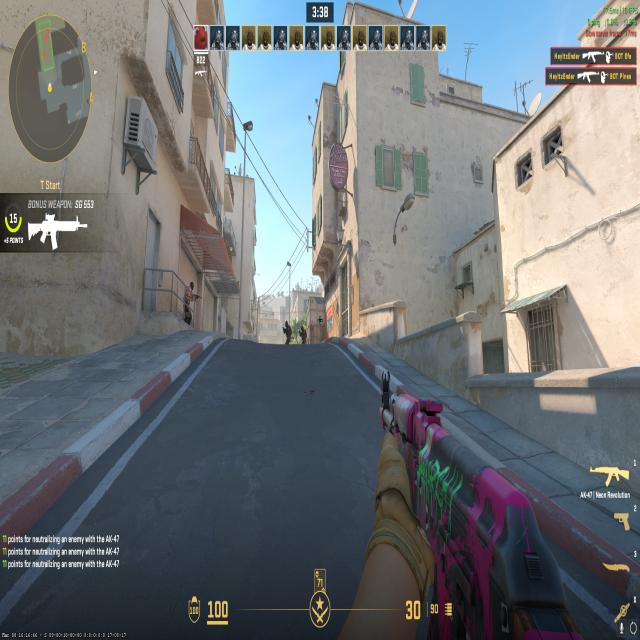ct: (282, 318, 292, 345), (298, 321, 306, 346)
t: (183, 276, 196, 321)
